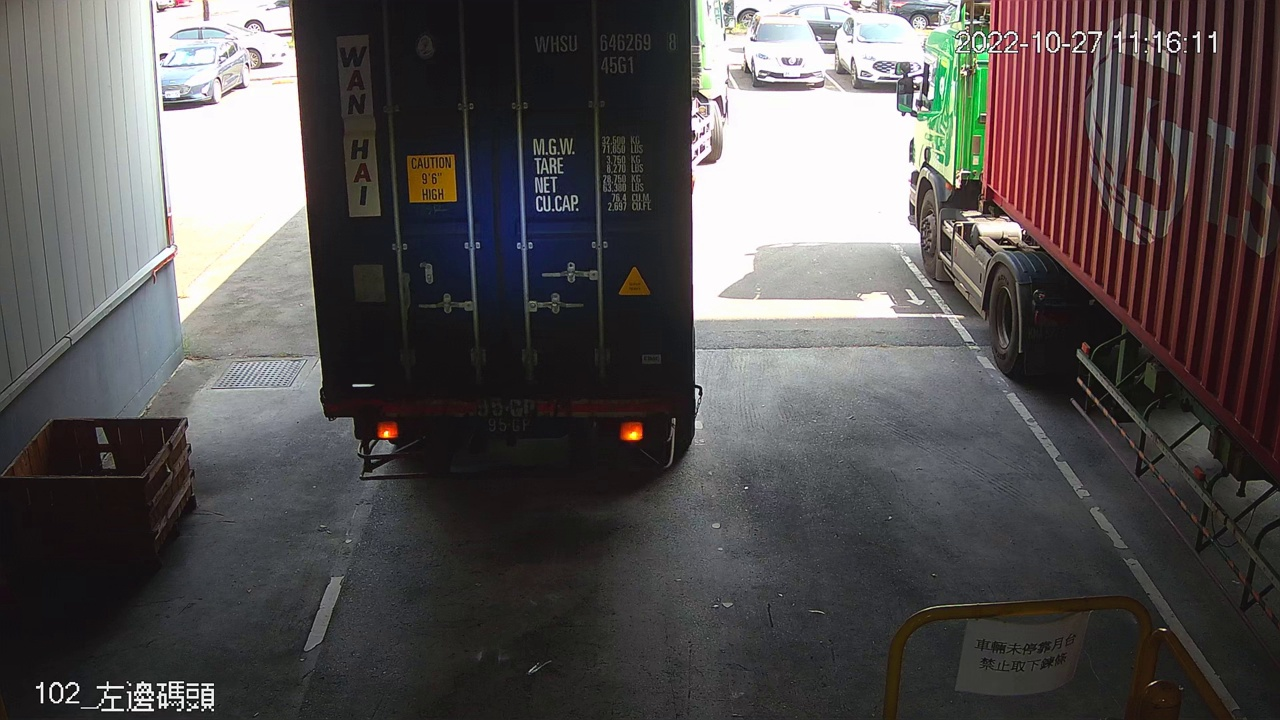container: (526, 24, 682, 79)
